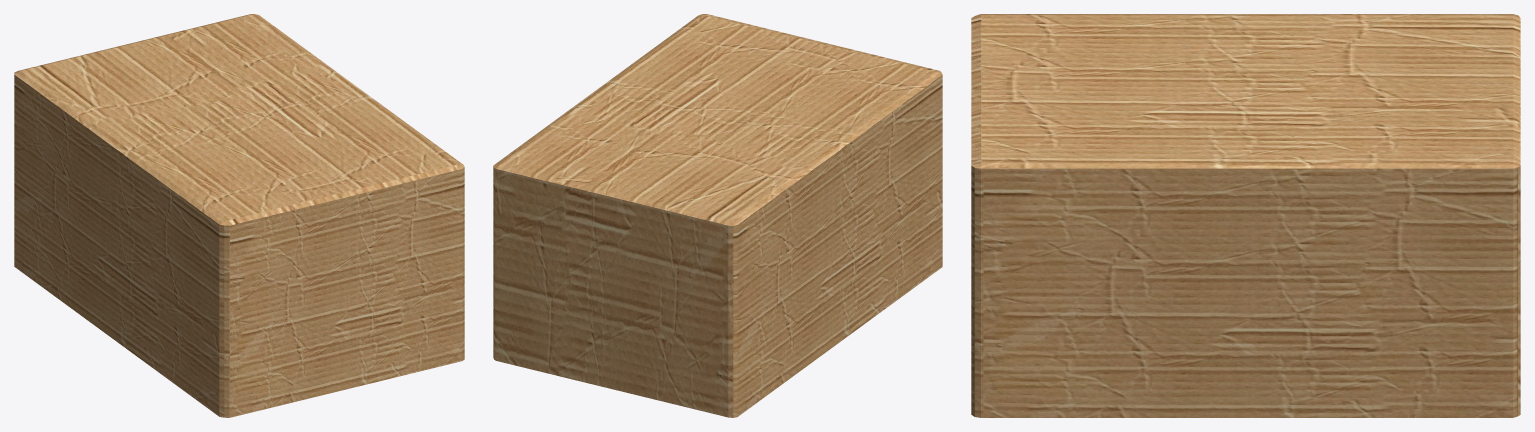
The model's file is caja singular.glb.
The picture shows the model from 3 angles, left to right: view 1: azimuth 30°, elevation 25°; view 2: azimuth 150°, elevation 25°; view 3: azimuth 270°, elevation 25°; orthographic projection. The views are drawn at different scales.
Parts seen in each view (by area): view 1: CAJA BASE; view 2: CAJA BASE; view 3: CAJA BASE.
Boxes of the visible parts, x1,y1,x2,y2 form: CAJA BASE: (14, 14, 464, 417); CAJA BASE: (493, 14, 942, 417); CAJA BASE: (971, 14, 1520, 417).
Size of the model in its own units: 2.66 by 2.04 by 3.99.
Materials: 1 (1 with a texture image).
